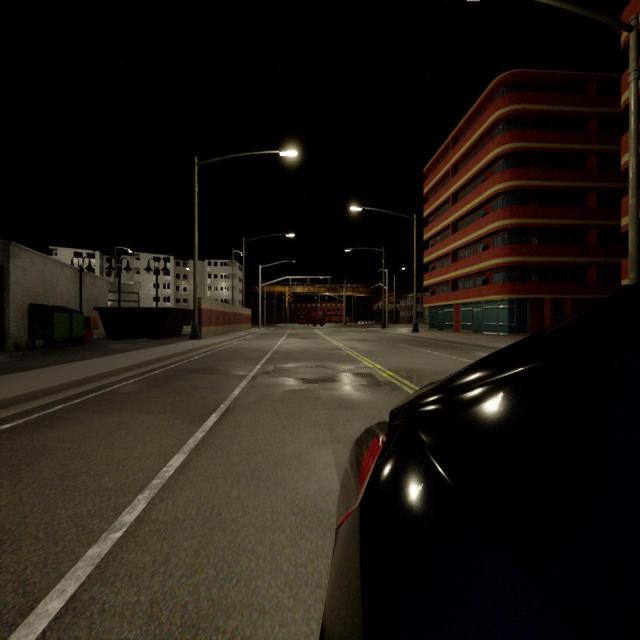Vehicle: (321, 296, 640, 639), (307, 315, 323, 326), (298, 319, 304, 326)
traffic_light: (308, 278, 310, 284), (290, 278, 291, 284), (329, 278, 330, 283), (315, 295, 316, 299), (326, 294, 327, 298)
